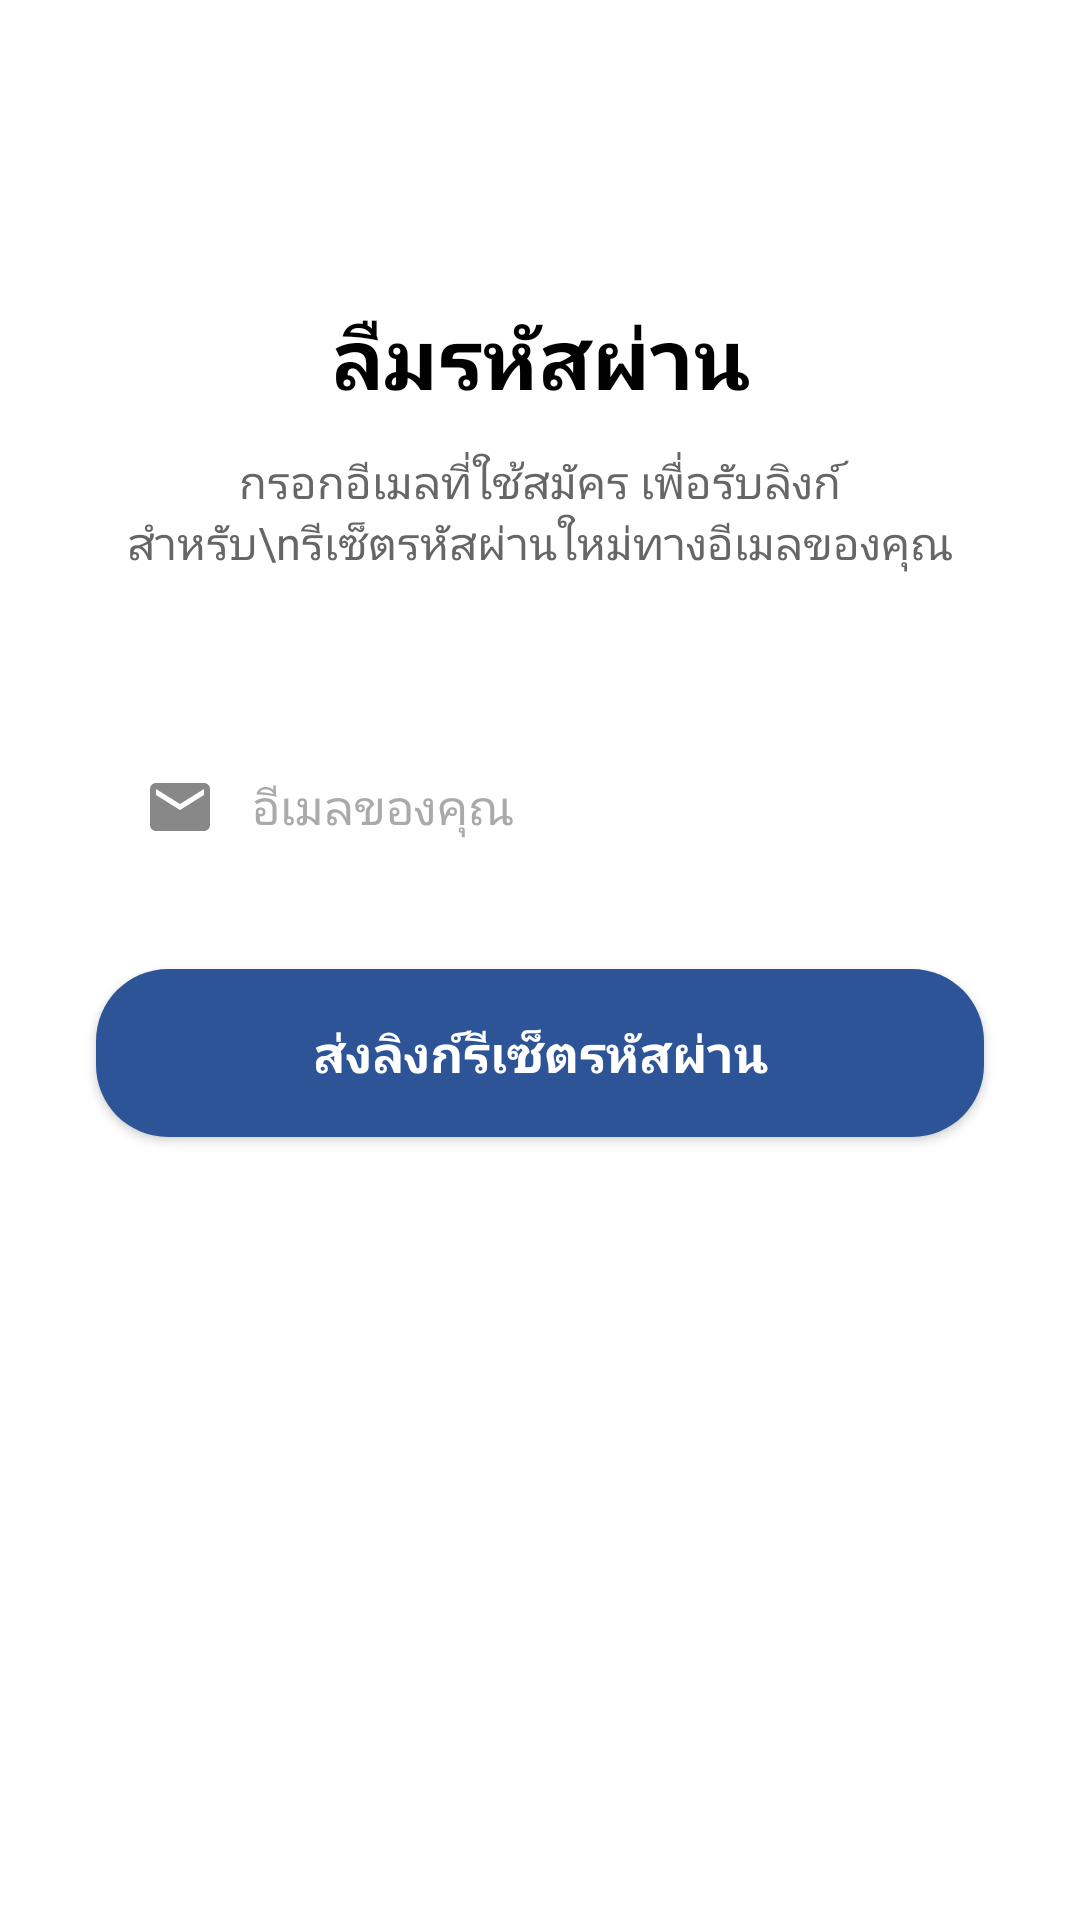

Named icons in this screenshot (1080px x 1920px) and their centers, (x=x, y=y):
email gg: (x=180, y=807)
